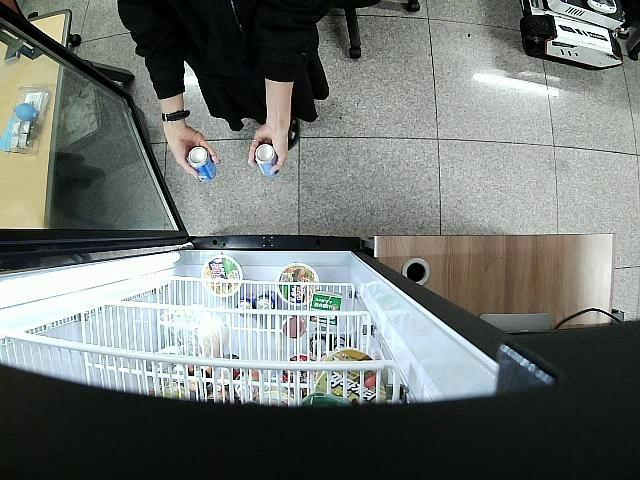15_letsbe: (188, 146, 216, 182), (254, 142, 278, 178)
